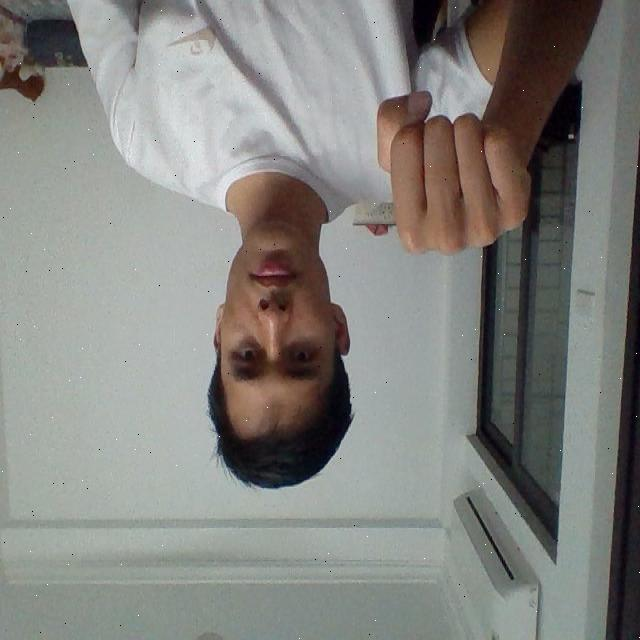yes: (368, 82, 536, 265)
